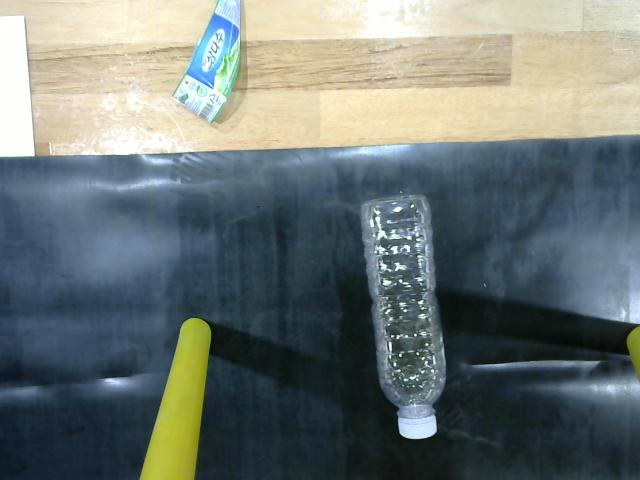bottle: (350, 183, 455, 451)
